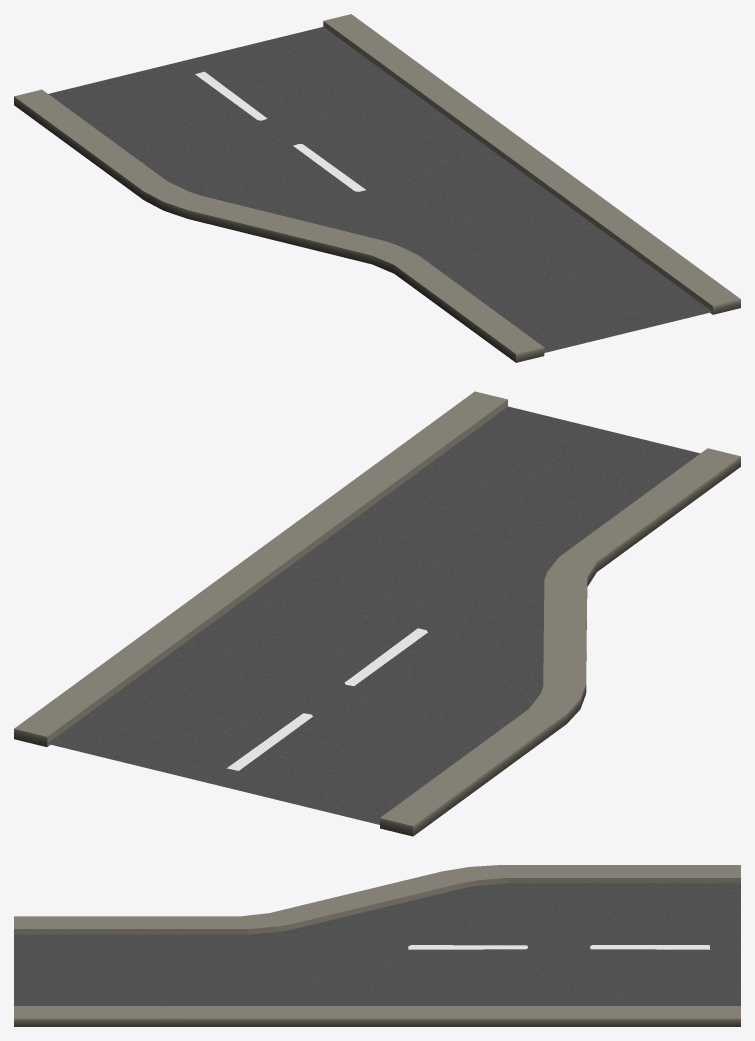
3 renders of one model, top to bottom at view 1: azimuth 30°, elevation 25°; view 2: azimuth 150°, elevation 25°; view 3: azimuth 270°, elevation 25°, orthographic. The views are drawn at different scales.
Parts seen in each view (by area): view 1: Road_2C; view 2: Road_2C; view 3: Road_2C.
Boxes of the visible parts, x1,y1,x2,y2 form: Road_2C: [14, 14, 740, 362]; Road_2C: [14, 391, 740, 836]; Road_2C: [14, 865, 740, 1026].
Bounding box in the file's own units: 14949 × 374 × 29898.
